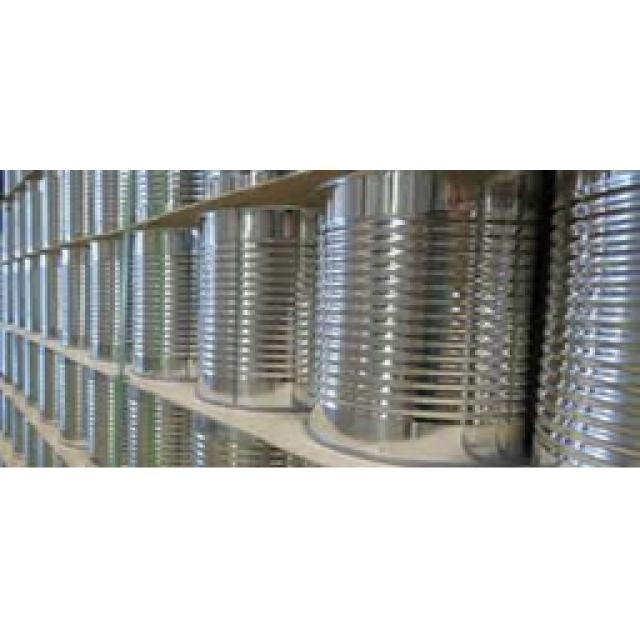alumunium: (0, 170, 638, 462)
